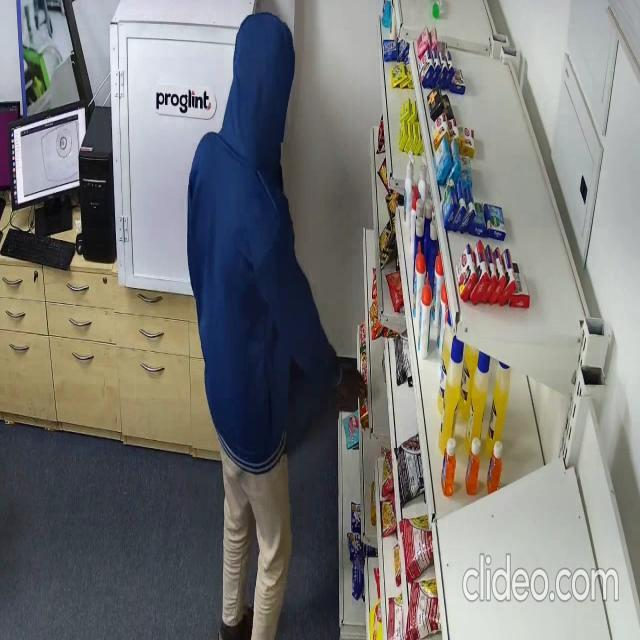normal: (188, 12, 367, 640)
